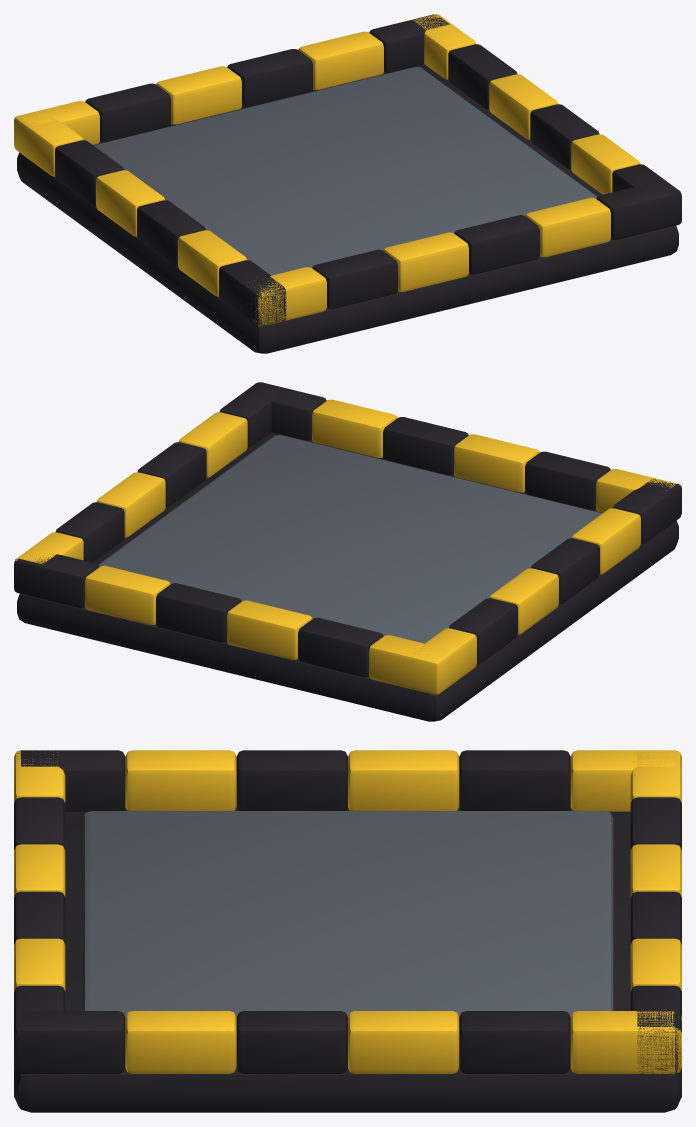
Rendered from SlotTray.fbx.
3 renders of one model, top to bottom at view 1: azimuth 30°, elevation 25°; view 2: azimuth 150°, elevation 25°; view 3: azimuth 270°, elevation 25°, orthographic. The views are drawn at different scales.
Parts seen in each view (by area): view 1: Prop_SlotTray; view 2: Prop_SlotTray; view 3: Prop_SlotTray.
Boxes of the visible parts, x1,y1,x2,y2 form: Prop_SlotTray: (14,14,681,353); Prop_SlotTray: (14,382,681,721); Prop_SlotTray: (14,750,681,1112).
Size of the model in its own units: 0.78 by 0.115 by 0.78.
